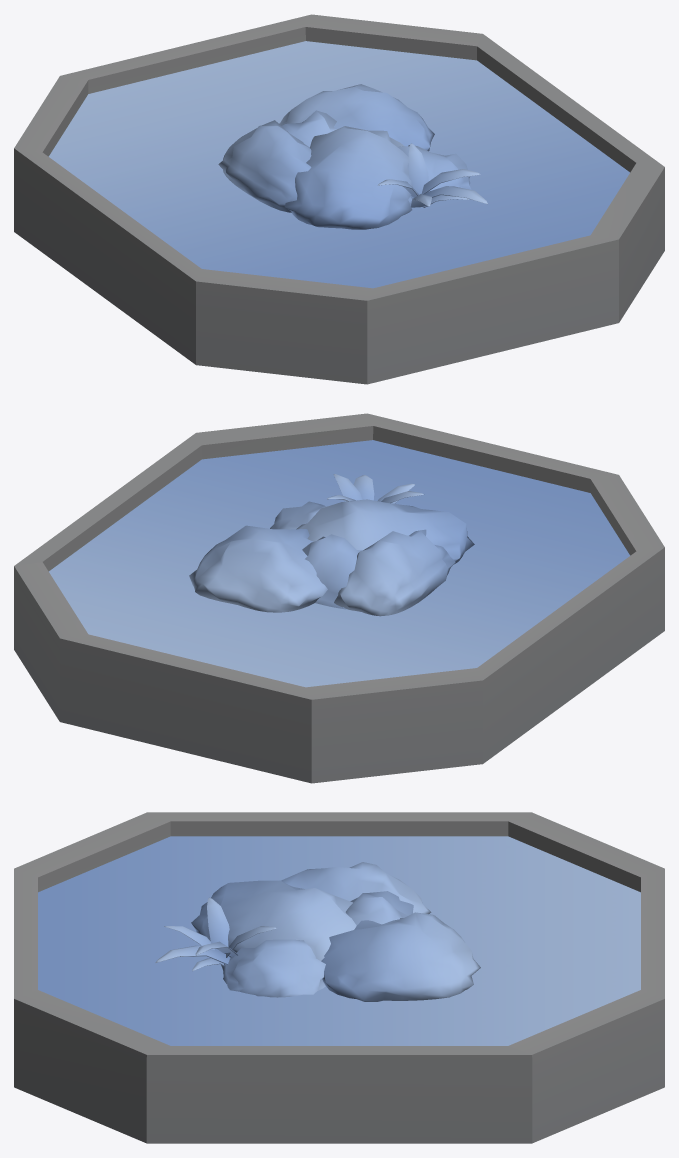
Rendered from hexaistutus.fbx.
3 views of the same model, one above another, from view 1: azimuth 30°, elevation 25°; view 2: azimuth 150°, elevation 25°; view 3: azimuth 270°, elevation 25° (orthographic). The views are drawn at different scales.
Parts seen in each view (by area): view 1: pCube3; view 2: pCube3; view 3: pCube3.
Part boxes in pixels (x1,y1,x2,y2): pCube3: (14,14,664,384); pCube3: (14,413,664,783); pCube3: (14,812,664,1143).
Bounding box in the file's own units: 35.97 × 9.04 × 40.83.
